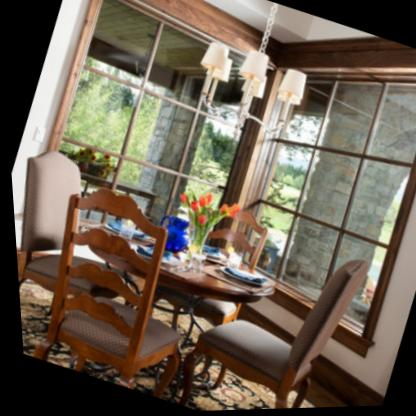Dining Table: (8, 139, 374, 416)
